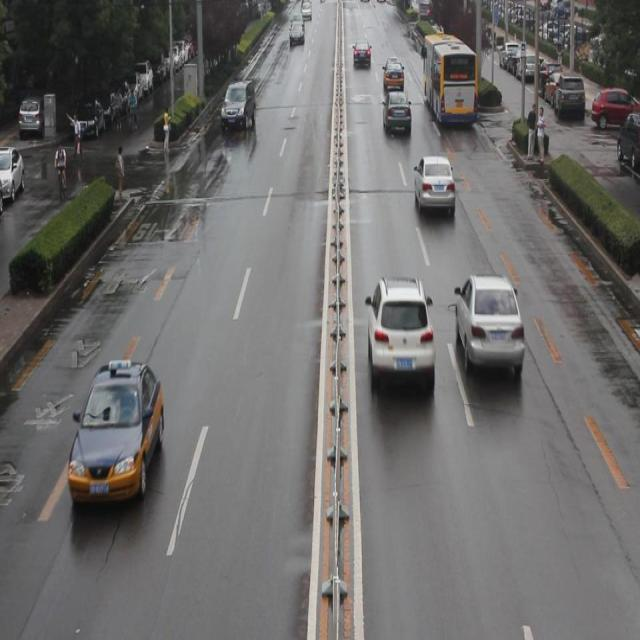car: (70, 358, 161, 508), (365, 279, 433, 394), (455, 277, 522, 382), (412, 155, 454, 214), (381, 92, 410, 138)
truck: (221, 86, 255, 132)
van: (422, 35, 477, 126)
